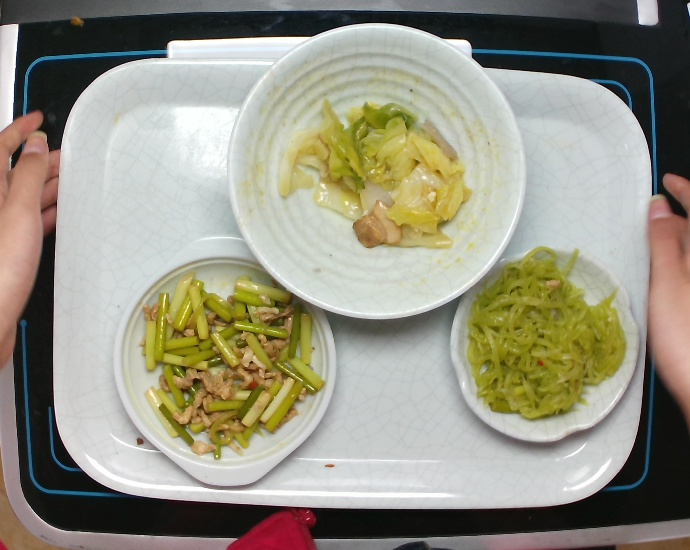JYsf-Ao_Yuan_Wan: (444, 242, 644, 453)
JYsf-Shuang_Er_Pan: (108, 228, 340, 491)
JYsf-Xiao_Tang_Wan: (218, 17, 532, 324)
